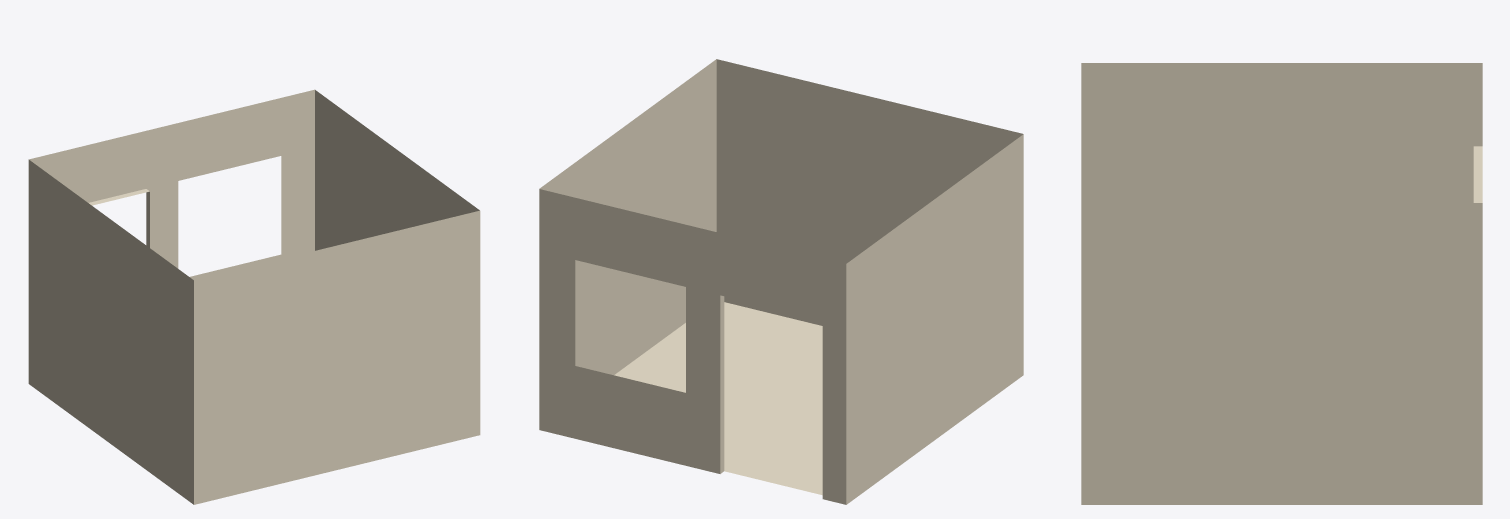
File: Bld_R_low_L1_B.fbx
The picture shows the model from 3 angles, left to right: view 1: azimuth 30°, elevation 25°; view 2: azimuth 150°, elevation 25°; view 3: azimuth 270°, elevation 25°; orthographic projection. The views are drawn at different scales.
Parts seen in each view (by area): view 1: Bld_R_low_L1_B_LOD0; view 2: Bld_R_low_L1_B_LOD0; view 3: Bld_R_low_L1_B_LOD0.
Boxes of the visible parts, x1,y1,x2,y2 form: Bld_R_low_L1_B_LOD0: (28,89,480,504); Bld_R_low_L1_B_LOD0: (539,59,1023,504); Bld_R_low_L1_B_LOD0: (1081,63,1482,504).
Size of what is drawn, in the model's own units: 600 by 650 by 600.
Materials: 1 (1 with a texture image).
